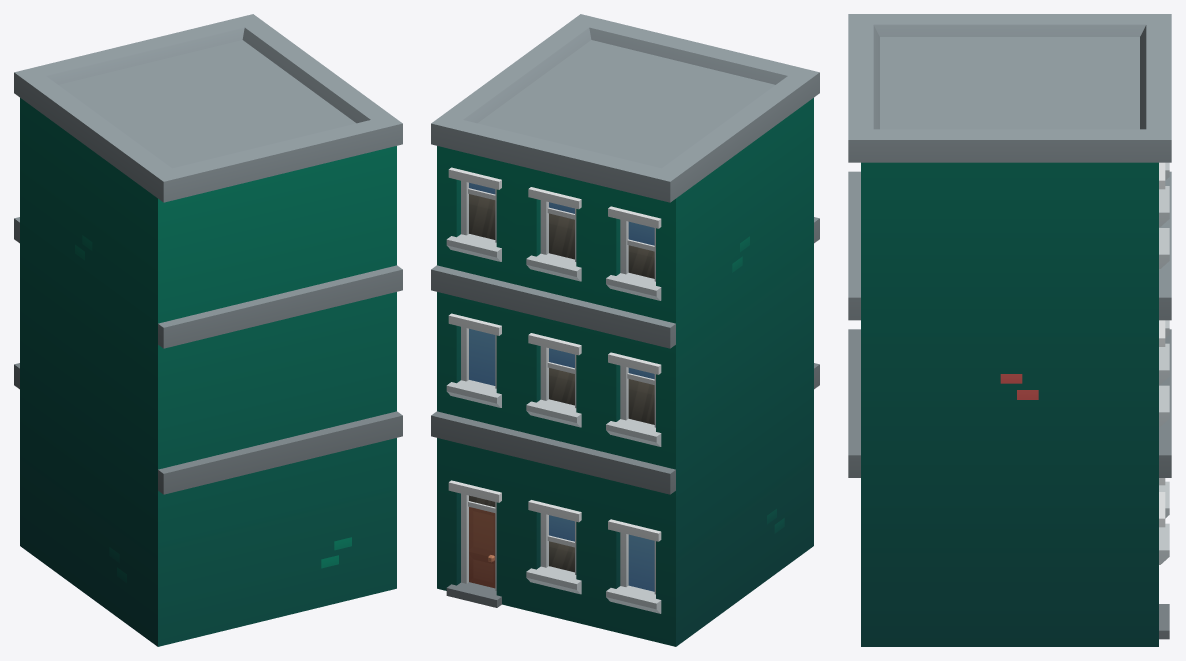
Rendered from EDIFICIO VERDE.fbx.
3 views of the same model, side by side, from view 1: azimuth 30°, elevation 25°; view 2: azimuth 150°, elevation 25°; view 3: azimuth 270°, elevation 25° (orthographic). The views are drawn at different scales.
Visible parts, largest first — view 1: building_C_withoutBase.001; view 2: building_C_withoutBase.001; view 3: building_C_withoutBase.001.
Boxes of the visible parts, <box> form: building_C_withoutBase.001: <box>14,14,402,646</box>; building_C_withoutBase.001: <box>431,14,819,646</box>; building_C_withoutBase.001: <box>848,14,1171,646</box>.
Size of the model in its own units: 1195 by 1287 by 2228.
1 material, 1 textured.
